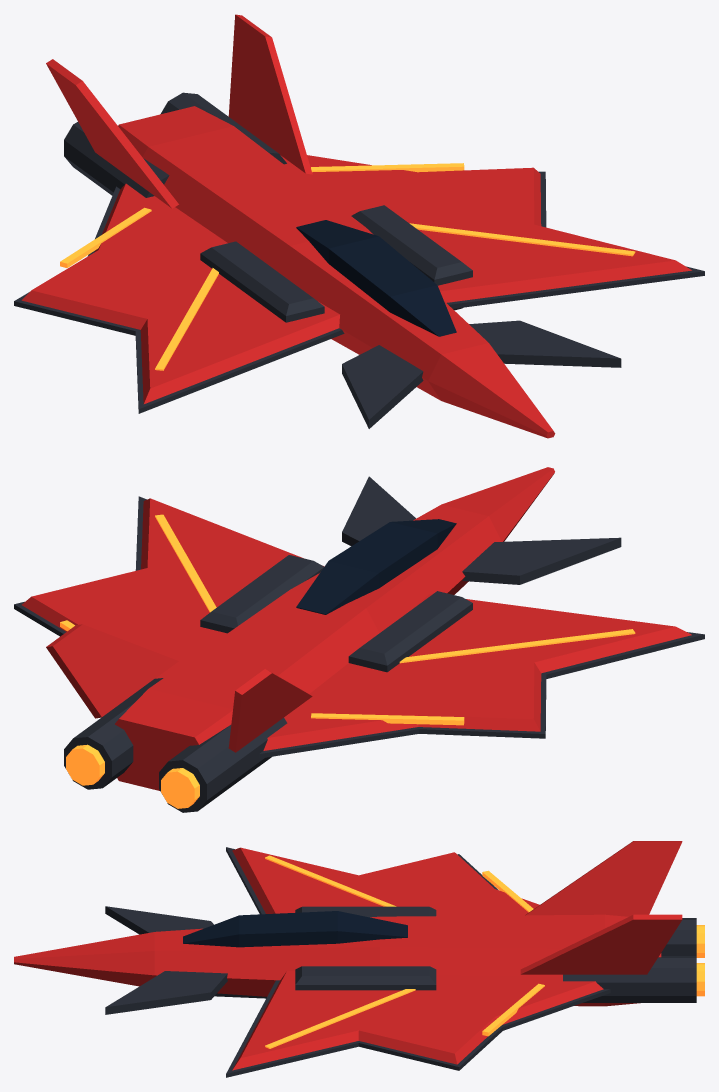
Rendered from enemy_delta.glb.
The picture shows the model from 3 angles, top to bottom: view 1: azimuth 30°, elevation 25°; view 2: azimuth 150°, elevation 25°; view 3: azimuth 270°, elevation 25°; orthographic projection. The views are drawn at different scales.
Visible parts, largest first — view 1: enemy_delta; view 2: enemy_delta; view 3: enemy_delta.
Boxes of the visible parts, x1=… form: enemy_delta: x1=14, y1=14, x2=704, y2=438; enemy_delta: x1=14, y1=467, x2=704, y2=812; enemy_delta: x1=14, y1=841, x2=704, y2=1077.
Bounding box in the file's own units: 0.8553 × 0.2118 × 1.1.
